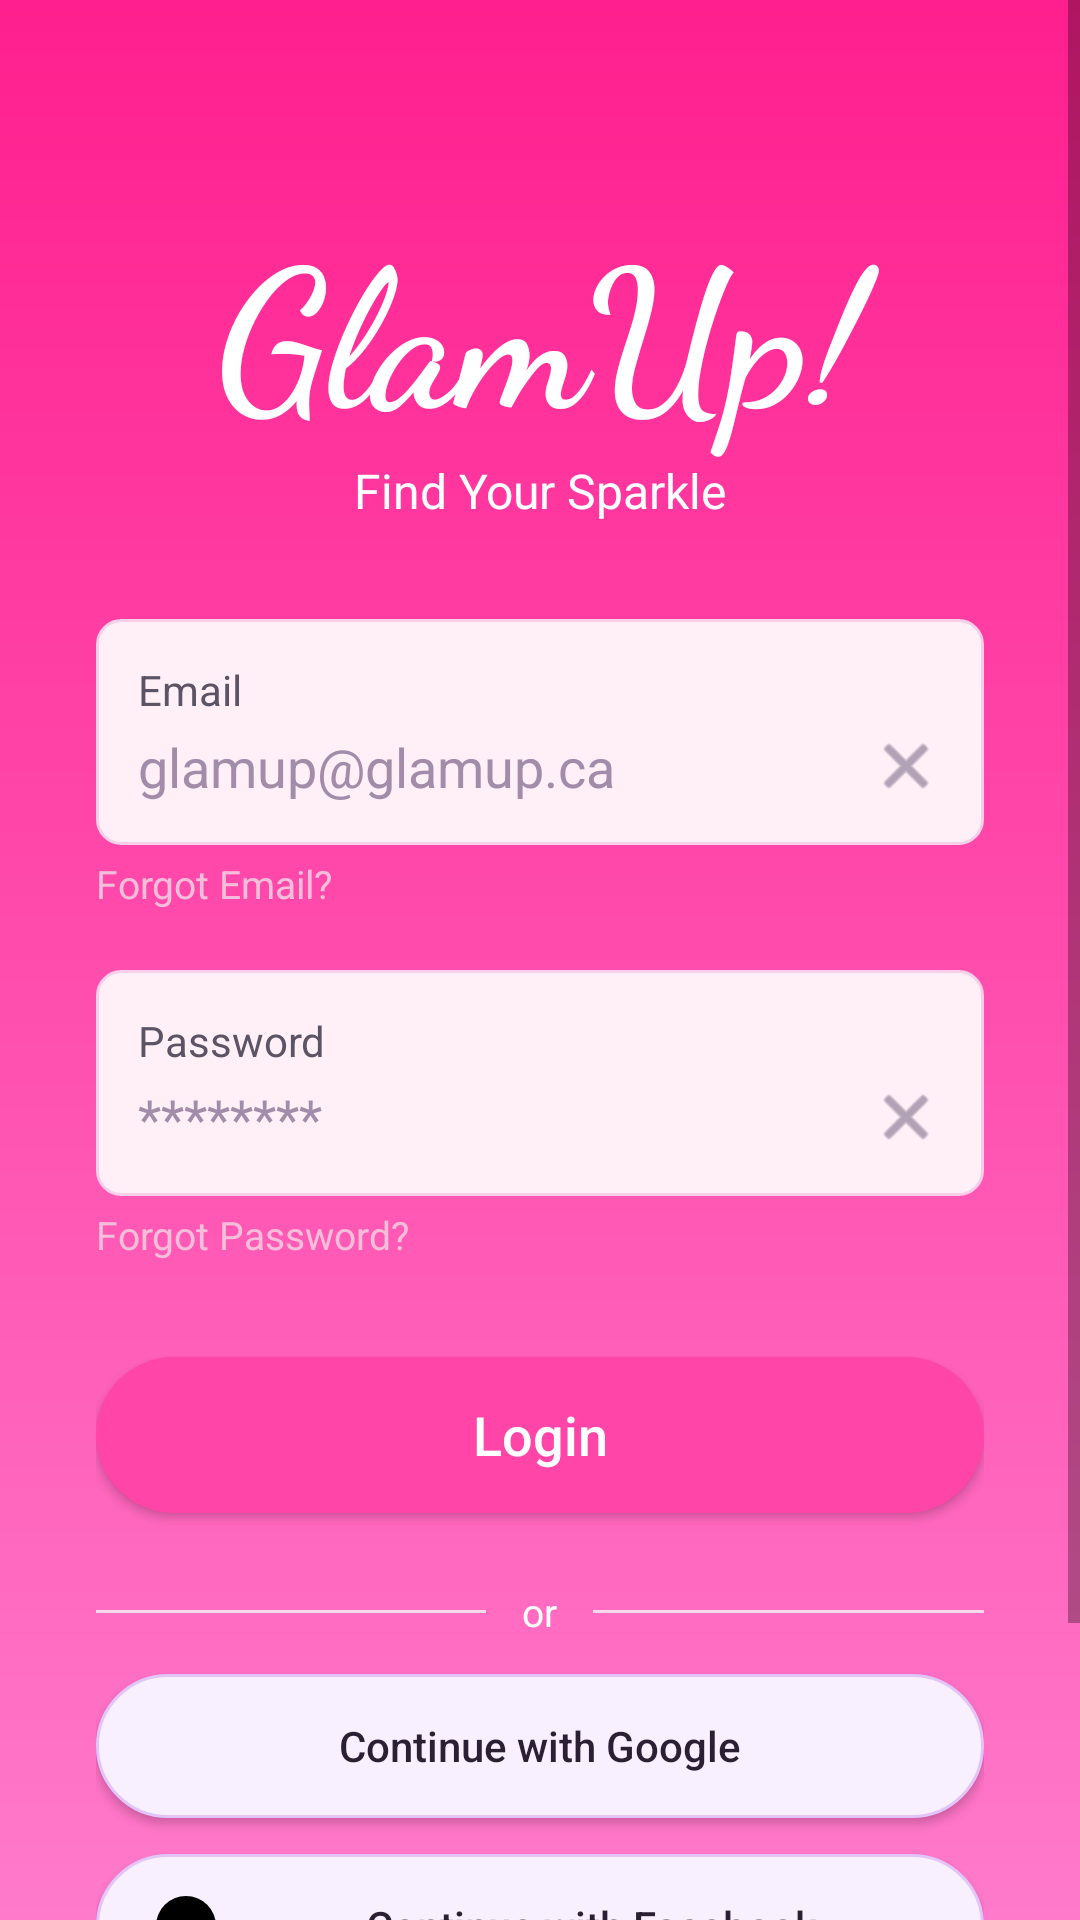

Locate icon controls on the screen. Image size 1080x1920, boxes as (x1, y1, x2, y2).
close clear cancel: (884, 744, 928, 788), (884, 1095, 928, 1139)
